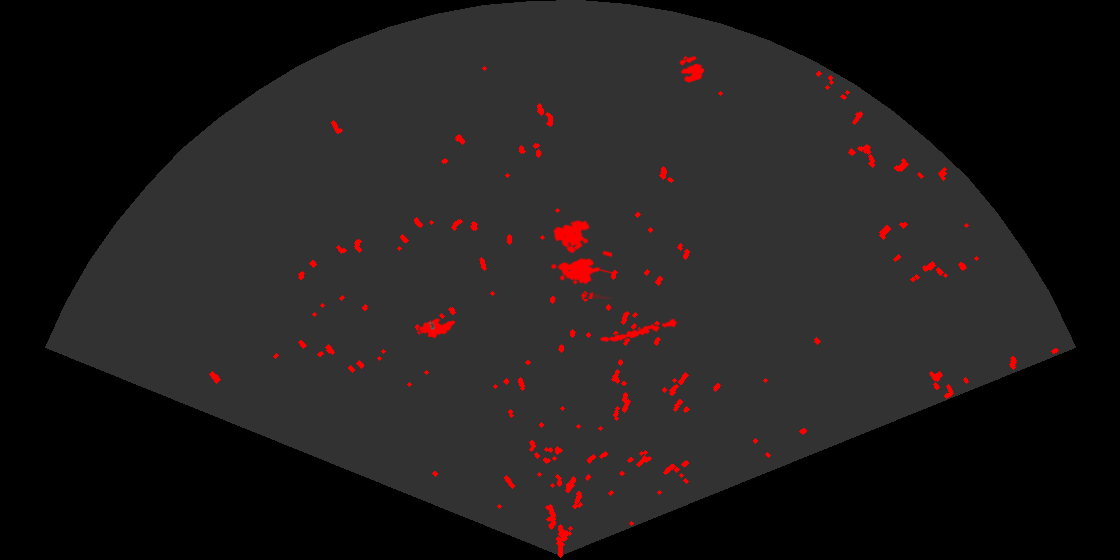AUV: (417, 317, 457, 340)
ball: (678, 54, 706, 84)
cage: (549, 218, 612, 299)
chain: (598, 317, 682, 344)
